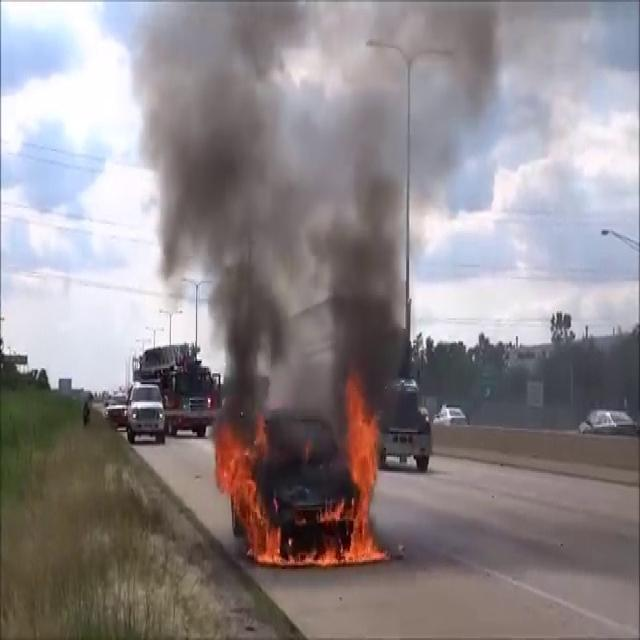Fire: (336, 373, 386, 567), (217, 416, 280, 564)
Smoke: (136, 0, 458, 393)
